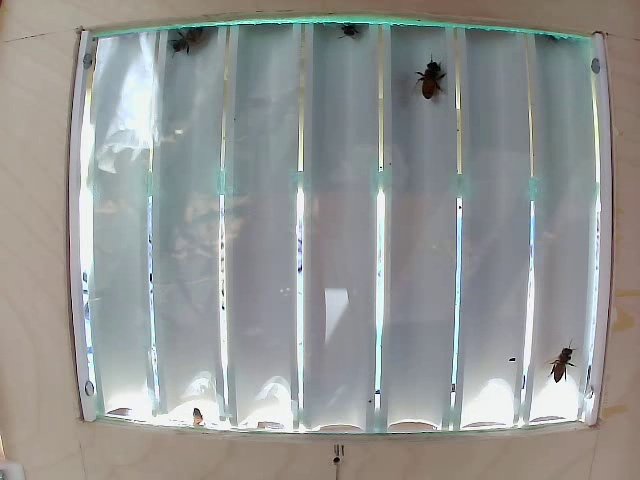bee: (418, 60, 449, 110), (176, 25, 209, 61)
